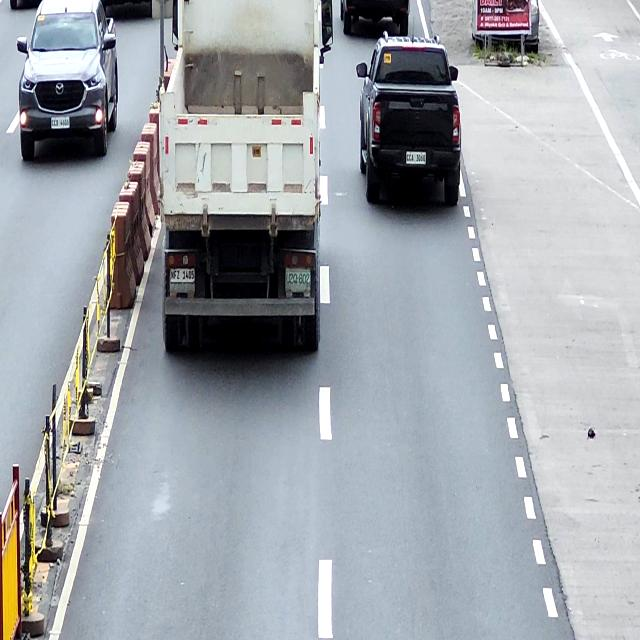Car: (356, 30, 462, 205), (17, 0, 119, 162)
License-Plate: (286, 270, 310, 288), (170, 269, 196, 283), (51, 116, 70, 130), (406, 151, 426, 164)
Truck: (156, 0, 334, 355)
